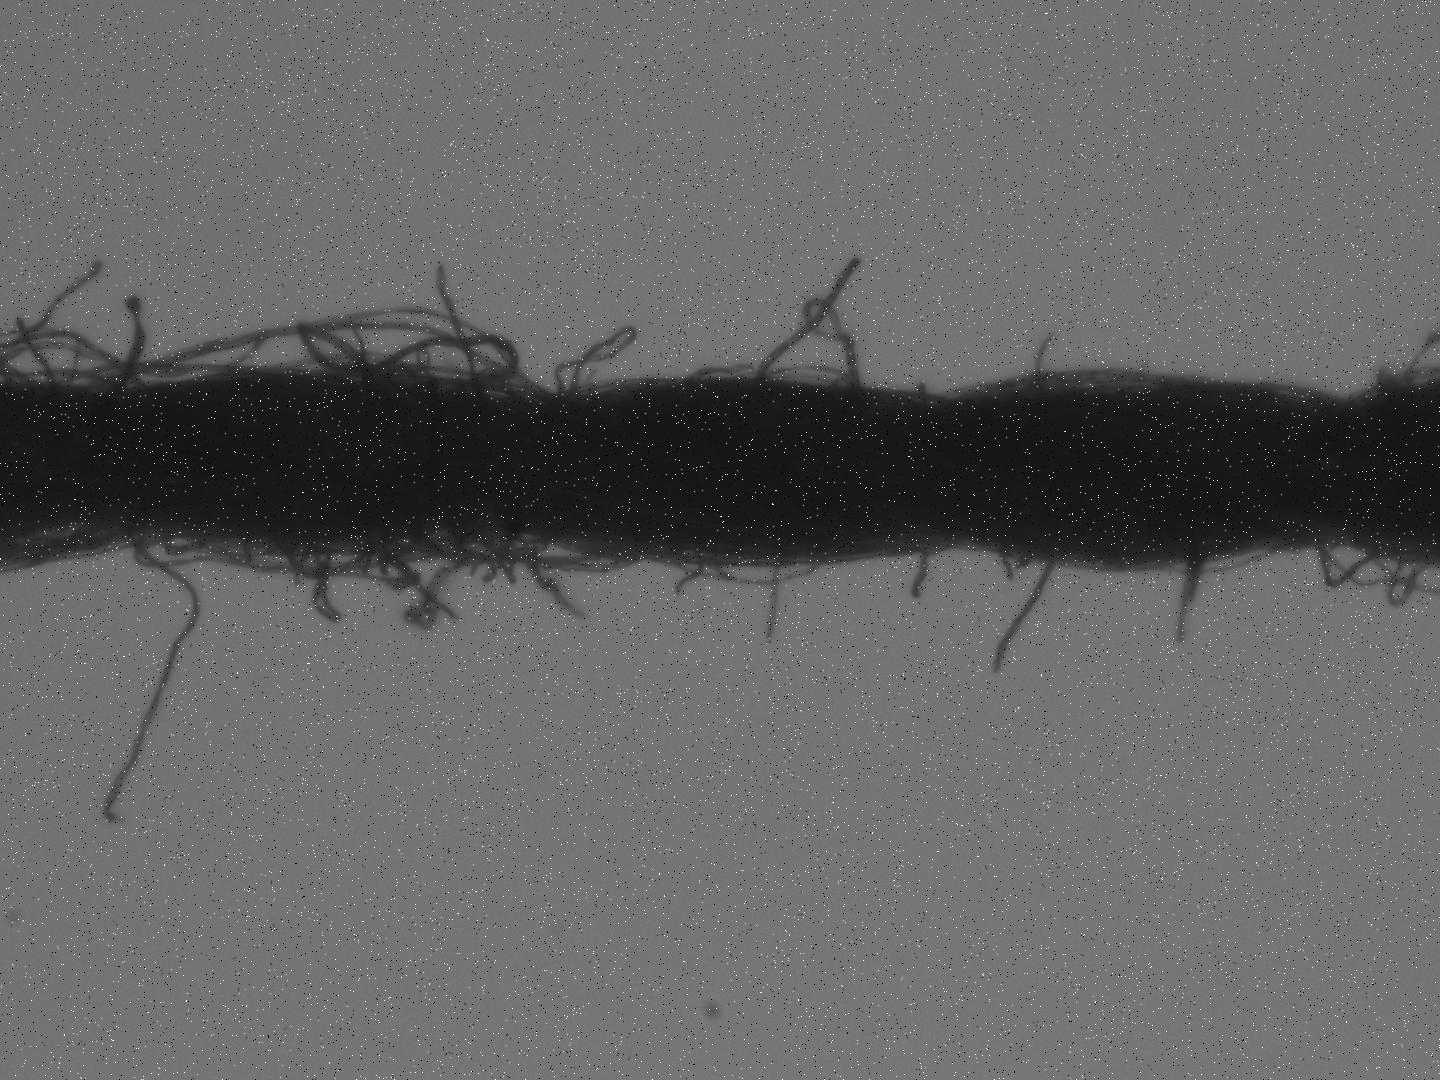loop_fiber: (110, 317, 544, 396), (299, 324, 515, 388), (2, 324, 138, 390), (471, 523, 632, 571), (410, 525, 551, 568), (278, 538, 381, 575), (1318, 537, 1390, 588), (713, 557, 825, 588), (1387, 552, 1431, 604), (772, 365, 850, 391)
protruding_fiber: (107, 539, 198, 825), (754, 247, 864, 379), (989, 558, 1062, 672), (435, 264, 481, 385), (1175, 554, 1206, 646), (766, 556, 783, 640), (1033, 330, 1057, 386), (914, 549, 934, 599)
